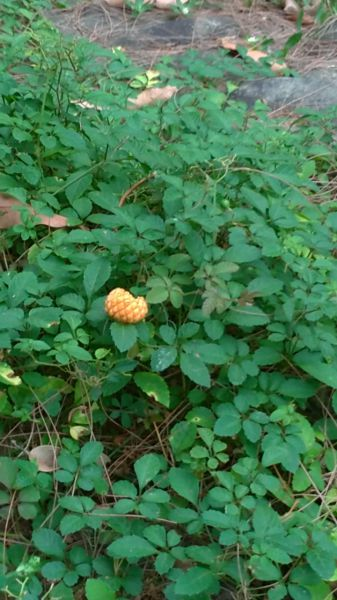eggs: (101, 282, 154, 325)
